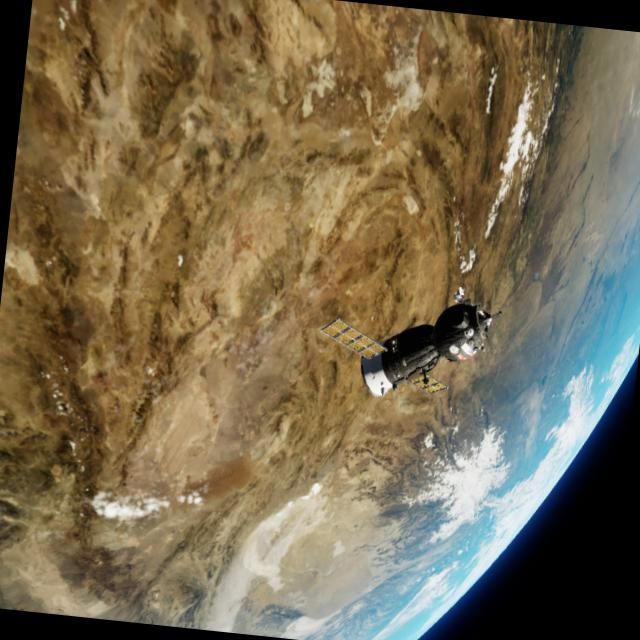Satellites revolving around earth: (0, 0, 640, 640), (310, 276, 506, 413)
